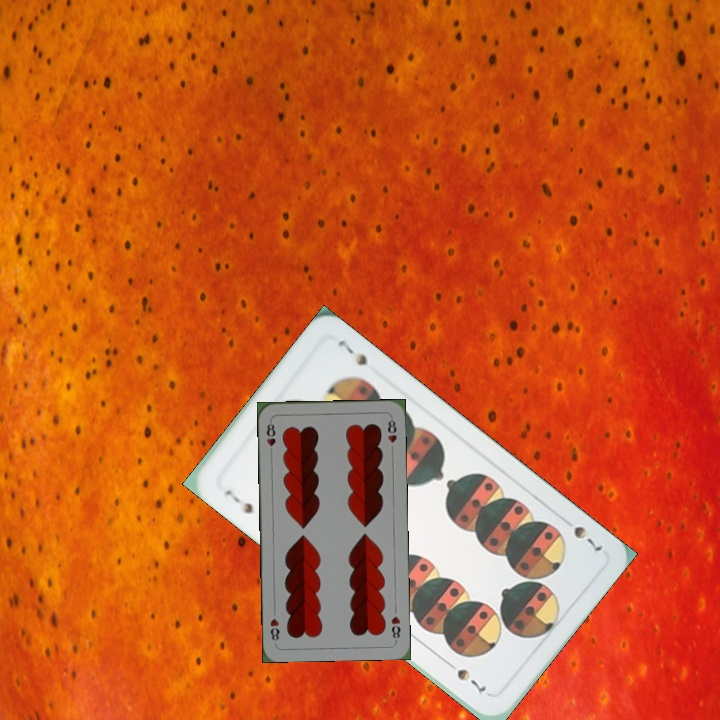H8: (387, 603, 403, 643), (263, 417, 278, 457)
S7: (569, 521, 605, 555), (220, 486, 256, 517)
